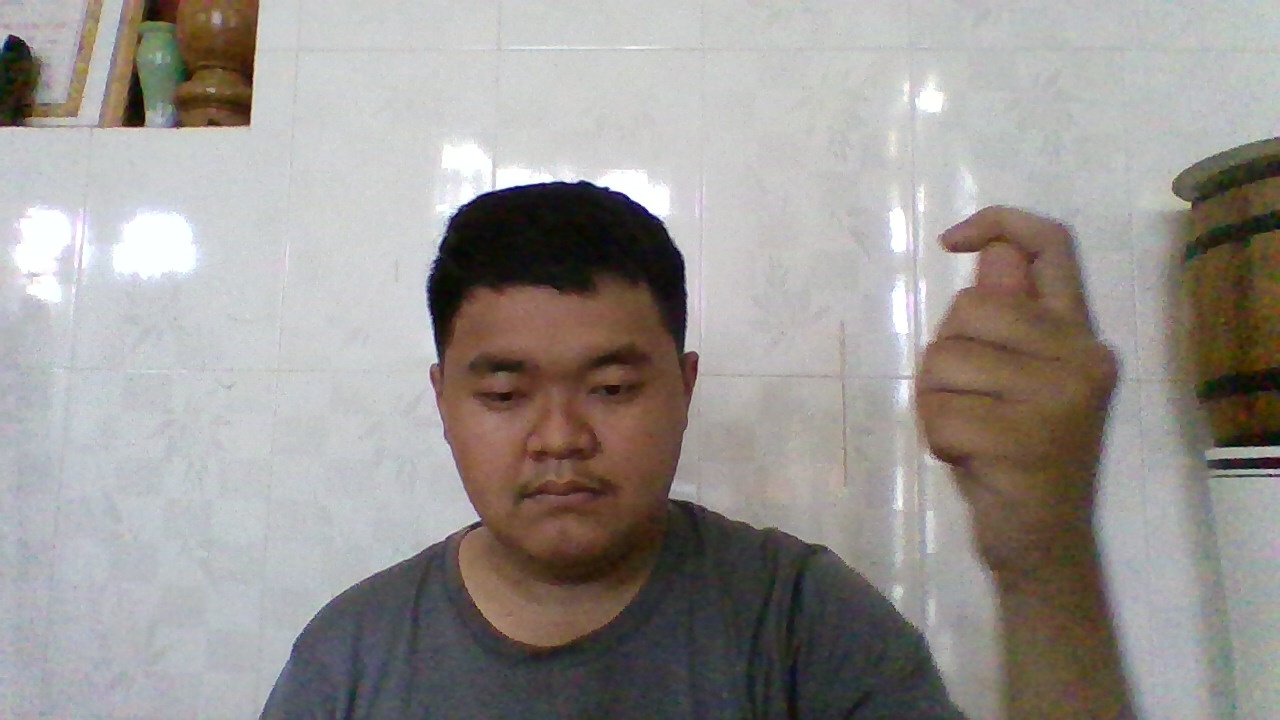X: (920, 204, 1106, 575)
